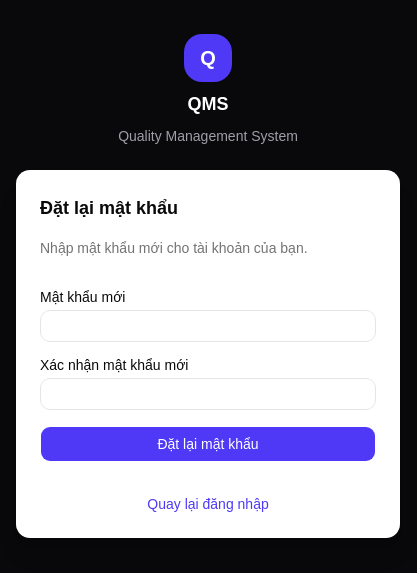
Test: ResetPasswordPage › shows an inline error and does not redirect on mismatched passwords
Step 1. Type "password123" into the password field labelled "Mật khẩu mới" → [208, 326], box [40,310,376,342]
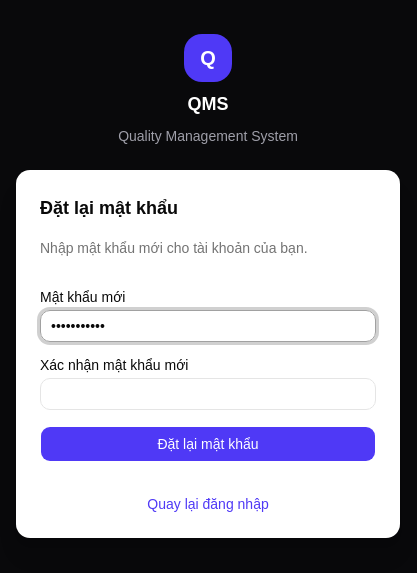
Step 2. Type "different123" into the password field labelled "Xác nhận mật khẩu mới" → [208, 394], box [40,378,376,410]
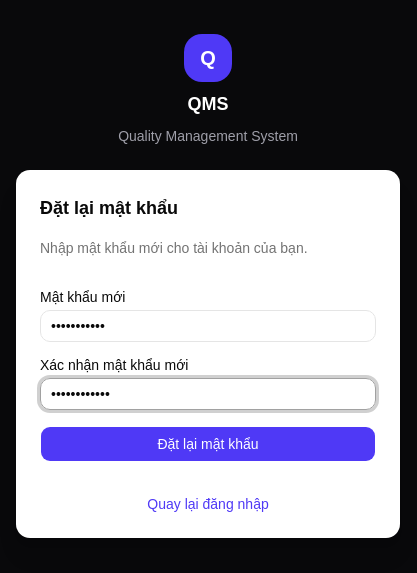
Step 3. Click the button "Đặt lại mật khẩu" → [208, 444], box [40,426,376,462]
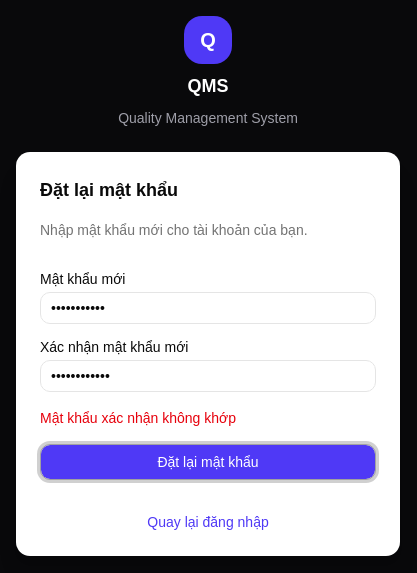
Expected: the text "Mật khẩu xác nhận không khớp" is shown, [40,410,236,426]
